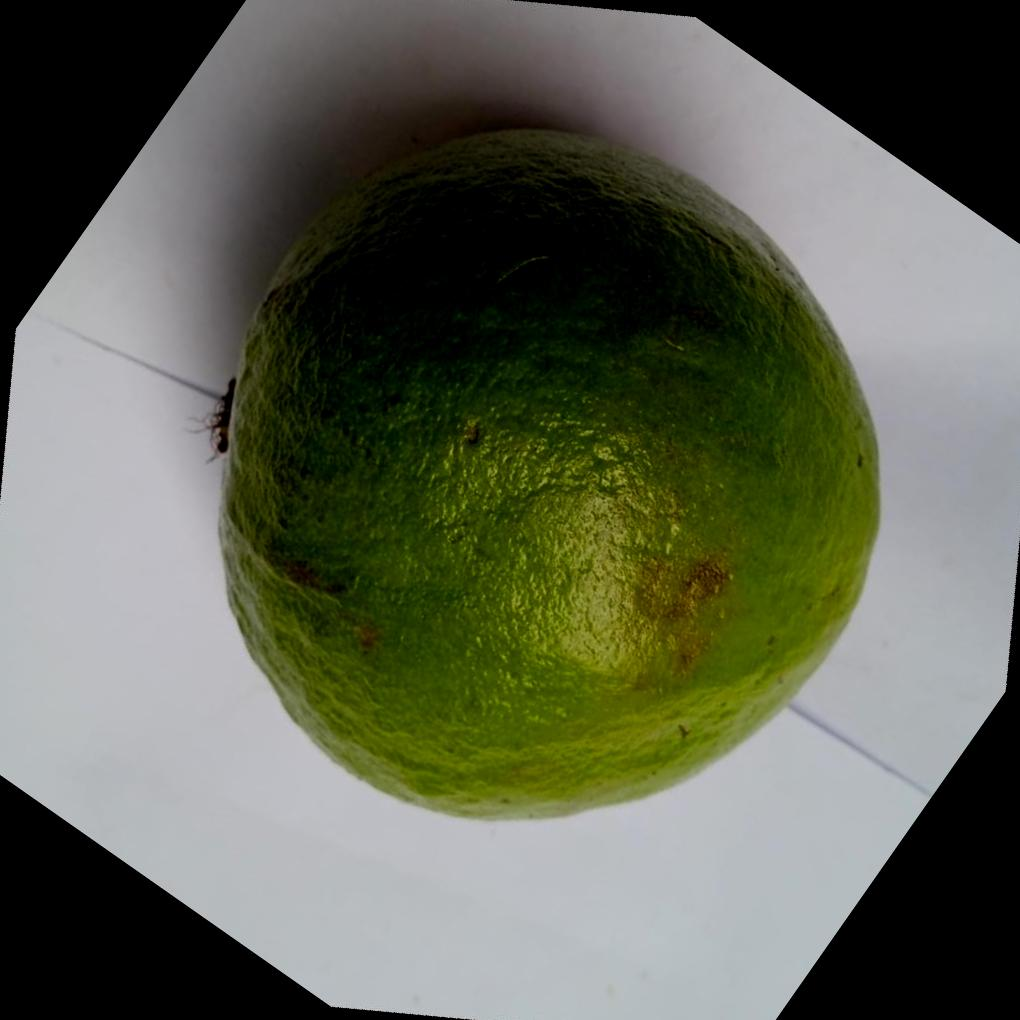FreshGuava: (213, 122, 880, 820)
